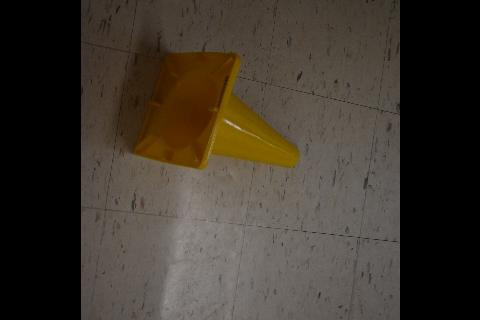cone: (132, 54, 298, 170)
